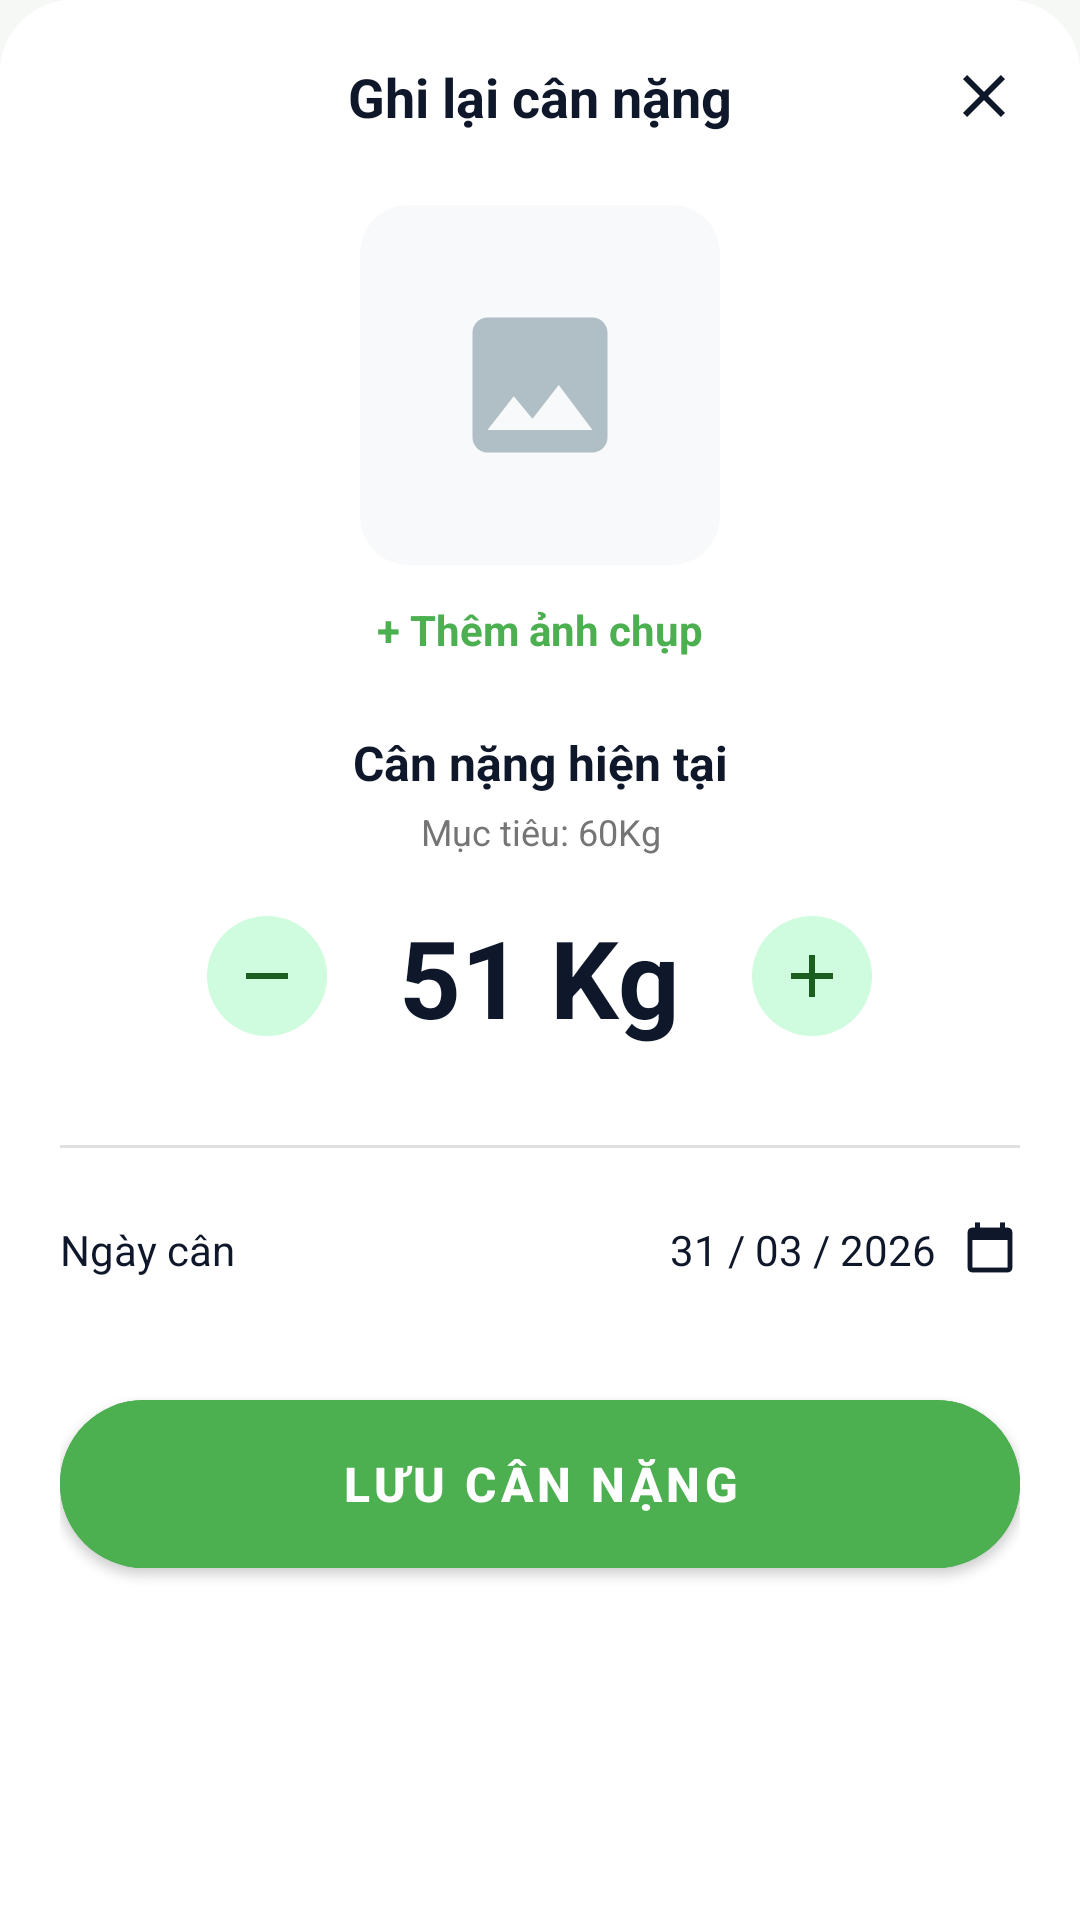

Where to tap for icons on this 1080×1920 app screen, as (x,y):
add: (812,976)
calendar: (990,1247)
close: (984,96)
minus: (267,976)
